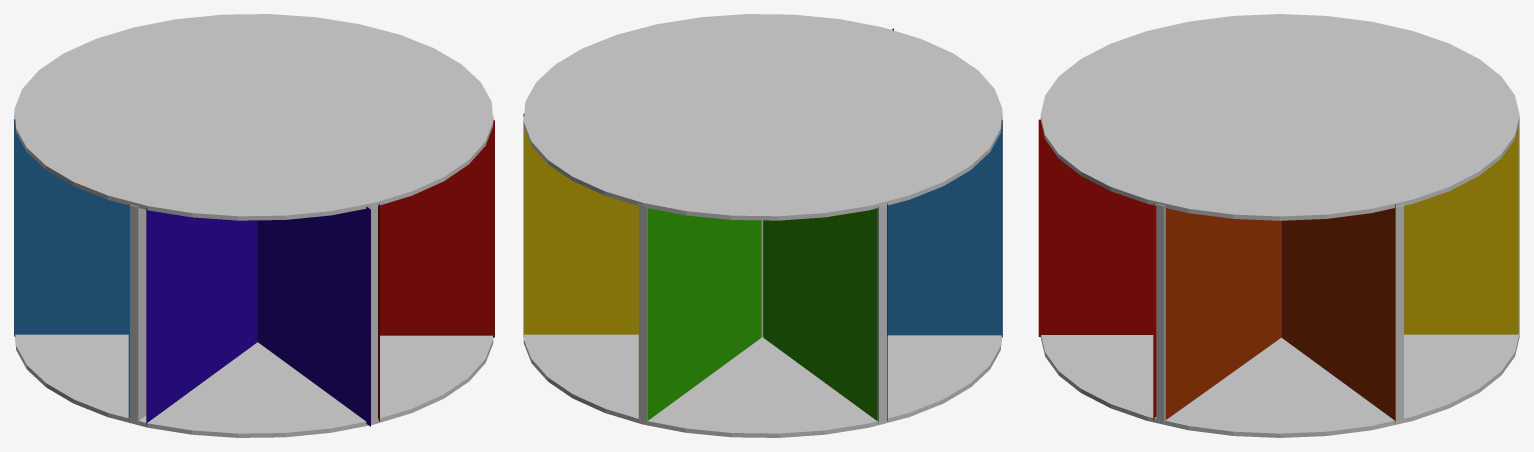
File: carousel.obj
3 views of the same model, side by side, from view 1: azimuth 30°, elevation 25°; view 2: azimuth 150°, elevation 25°; view 3: azimuth 270°, elevation 25° (orthographic).
Parts seen in each view (by area): view 1: Cylinder.001, Plane.004_Plane.008, Cylinder, Plane.006_Plane.009, Plane.003_Plane.007, Cube.001_Cube.003, Cube_Cube.002; view 2: Cylinder.001, Plane.000_Plane.006, Cylinder, Plane.003_Plane.007, Plane.005, Cube.002_Cube.004, Cube_Cube.002; view 3: Cylinder.001, Plane.002, Cylinder, Plane.006_Plane.009, Plane.005, Cube.002_Cube.004, Cube.001_Cube.003.
Boxes of the visible parts, <box> form: Cylinder.001: <box>14,14,493,220</box>; Plane.004_Plane.008: <box>146,206,370,426</box>; Cylinder: <box>15,334,493,437</box>; Plane.006_Plane.009: <box>378,120,494,421</box>; Plane.003_Plane.007: <box>14,119,129,420</box>; Cube.001_Cube.003: <box>130,204,146,424</box>; Cube_Cube.002: <box>369,204,377,422</box>; Cylinder.001: <box>523,14,1002,220</box>; Plane.000_Plane.006: <box>647,208,877,420</box>; Cylinder: <box>523,334,1001,437</box>; Plane.003_Plane.007: <box>887,120,1002,420</box>; Plane.005: <box>524,127,638,418</box>; Cube.002_Cube.004: <box>763,203,886,423</box>; Cube_Cube.002: <box>639,204,762,423</box>; Cylinder.001: <box>1040,14,1519,220</box>; Plane.002: <box>1165,204,1395,421</box>; Cylinder: <box>1040,334,1519,437</box>; Plane.006_Plane.009: <box>1038,119,1156,420</box>; Plane.005: <box>1404,125,1518,334</box>; Cube.002_Cube.004: <box>1156,204,1165,423</box>; Cube.001_Cube.003: <box>1281,205,1403,423</box>.
Size of the model in its own units: 10 by 5.1 by 10.17.
